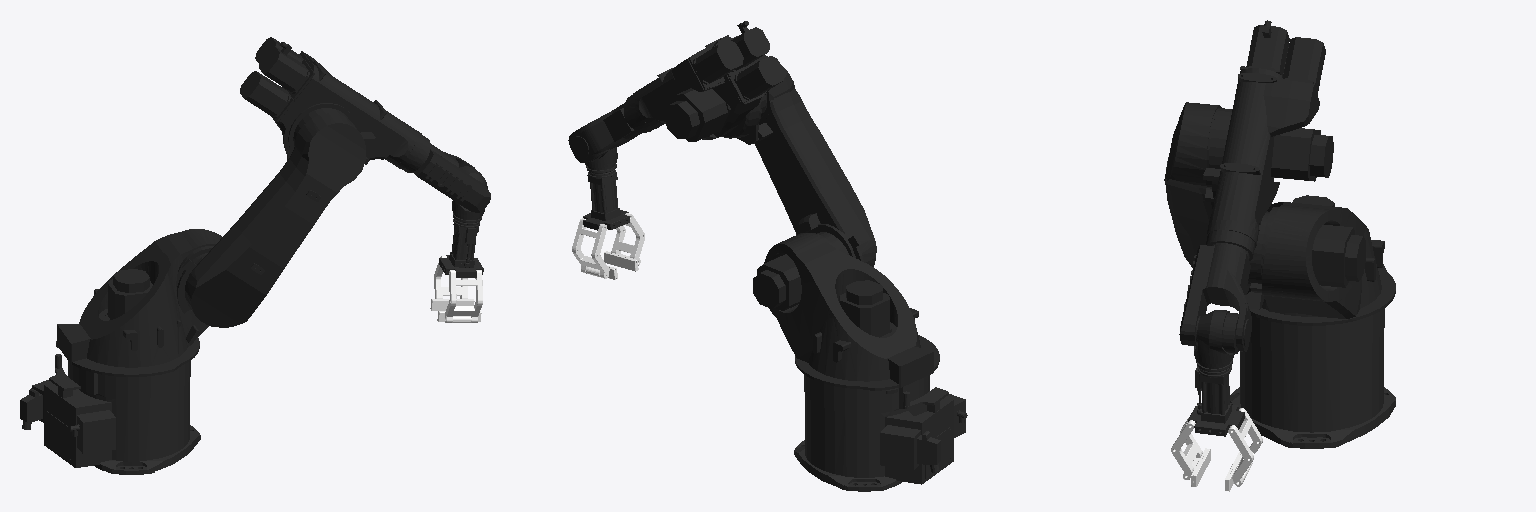
The robot description file, URDF, robot "kr60":
<?xml version="1.0" encoding="utf-8"?>
<!-- This URDF was automatically created by SolidWorks to URDF Exporter! Originally created by [author] ([email redacted]) 
     Commit Version: 1.6.0-1-g15f4949  Build Version: 1.6.7594.29634
     For more information, please see http://wiki.ros.org/sw_urdf_exporter -->
<robot
  name="kr60">
  <link
    name="base_link">
    <inertial>
      <origin
        xyz="-0.0435912921701559 0.000713255348429254 0.235869111604986"
        rpy="0 0 0" />
      <mass
        value="131.03709830541" />
      <inertia
        ixx="4.89785584702139"
        ixy="0.0374706691148856"
        ixz="-0.212225957715894"
        iyy="6.14888362749998"
        iyz="-0.000661186598210806"
        izz="6.05287659150192" />
    </inertial>
    <visual>
      <origin
        xyz="0 0 0"
        rpy="0 0 0" />
      <geometry>
        <mesh
          filename="package://kr60/meshes/base_link.STL" />
      </geometry>
      <material
        name="">
        <color
          rgba="0.223529411764706 0.223529411764706 0.223529411764706 1" />
      </material>
    </visual>
    <collision>
      <origin
        xyz="0 0 0"
        rpy="0 0 0" />
      <geometry>
        <mesh
          filename="package://kr60/meshes/base_link.STL" />
      </geometry>
    </collision>
  </link>
  <link
    name="link1">
    <inertial>
      <origin
        xyz="0.140797971765356 -0.0164096960535733 0.187359043807774"
        rpy="0 0 0" />
      <mass
        value="82.8920172367664" />
      <inertia
        ixx="2.45467046863107"
        ixy="0.256865903550409"
        ixz="-1.16906897181984"
        iyy="4.32241124955131"
        iyz="0.176354317999072"
        izz="4.14782926078883" />
    </inertial>
    <visual>
      <origin
        xyz="0 0 0"
        rpy="0 0 0" />
      <geometry>
        <mesh
          filename="package://kr60/meshes/link1.STL" />
      </geometry>
      <material
        name="">
        <color
          rgba="0.2 0.2 0.2 1" />
      </material>
    </visual>
    <collision>
      <origin
        xyz="0 0 0"
        rpy="0 0 0" />
      <geometry>
        <mesh
          filename="package://kr60/meshes/link1.STL" />
      </geometry>
    </collision>
  </link>
  <joint
    name="joint1"
    type="revolute">
    <origin
      xyz="0.00035187 -4.2629E-05 0.49797"
      rpy="0 0 0" />
    <parent
      link="base_link" />
    <child
      link="link1" />
    <axis
      xyz="0 0 -1" />
    <limit
      lower="0"
      upper="0"
      effort="0"
      velocity="0" />
  </joint>
  <link
    name="link2">
    <inertial>
      <origin
        xyz="0.251956440024243 0.31201537254992 0.101340677761361"
        rpy="0 0 0" />
      <mass
        value="54.5098631728848" />
      <inertia
        ixx="3.37106903827733"
        ixy="-2.31897616562626"
        ixz="-0.0123248243600918"
        iyy="2.37820274493385"
        iyz="-0.0168099695812892"
        izz="5.37880440302274" />
    </inertial>
    <visual>
      <origin
        xyz="0 0 0"
        rpy="0 0 0" />
      <geometry>
        <mesh
          filename="package://kr60/meshes/link2.STL" />
      </geometry>
      <material
        name="">
        <color
          rgba="0.2 0.2 0.2 1" />
      </material>
    </visual>
    <collision>
      <origin
        xyz="0 0 0"
        rpy="0 0 0" />
      <geometry>
        <mesh
          filename="package://kr60/meshes/link2.STL" />
      </geometry>
    </collision>
  </link>
  <joint
    name="joint2"
    type="revolute">
    <origin
      xyz="0.30771 -0.22264 0.31103"
      rpy="1.5708 0 -0.22752" />
    <parent
      link="link1" />
    <child
      link="link2" />
    <axis
      xyz="0 0 -1" />
    <limit
      lower="0"
      upper="0"
      effort="0"
      velocity="0" />
  </joint>
  <link
    name="link3">
    <inertial>
      <origin
        xyz="0.0264574349222555 0.0622817405350231 -0.184769381740328"
        rpy="0 0 0" />
      <mass
        value="52.8139839675299" />
      <inertia
        ixx="1.44583618573615"
        ixy="0.675569358504738"
        ixz="-0.08105662717627"
        iyy="1.74771111138366"
        iyz="0.138955152142587"
        izz="2.35512831766369" />
    </inertial>
    <visual>
      <origin
        xyz="0 0 0"
        rpy="0 0 0" />
      <geometry>
        <mesh
          filename="package://kr60/meshes/link3.STL" />
      </geometry>
      <material
        name="">
        <color
          rgba="0.2 0.2 0.2 1" />
      </material>
    </visual>
    <collision>
      <origin
        xyz="0 0 0"
        rpy="0 0 0" />
      <geometry>
        <mesh
          filename="package://kr60/meshes/link3.STL" />
      </geometry>
    </collision>
  </link>
  <joint
    name="joint3"
    type="revolute">
    <origin
      xyz="0.53484 0.66064 0.017"
      rpy="0 0 0" />
    <parent
      link="link2" />
    <child
      link="link3" />
    <axis
      xyz="0 0 -1" />
    <limit
      lower="0"
      upper="0"
      effort="0"
      velocity="0" />
  </joint>
  <link
    name="link4">
    <inertial>
      <origin
        xyz="-0.00407295592284429 0.0114233456063895 0.191771095925468"
        rpy="0 0 0" />
      <mass
        value="9.33484403440081" />
      <inertia
        ixx="0.173337740682456"
        ixy="0.00766249996810709"
        ixz="0.00211297471780549"
        iyy="0.155598279375636"
        iyz="-0.00570657719860746"
        izz="0.0550237588439791" />
    </inertial>
    <visual>
      <origin
        xyz="0 0 0"
        rpy="0 0 0" />
      <geometry>
        <mesh
          filename="package://kr60/meshes/link4.STL" />
      </geometry>
      <material
        name="">
        <color
          rgba="0.2 0.2 0.2 1" />
      </material>
    </visual>
    <collision>
      <origin
        xyz="0 0 0"
        rpy="0 0 0" />
      <geometry>
        <mesh
          filename="package://kr60/meshes/link4.STL" />
      </geometry>
    </collision>
  </link>
  <joint
    name="joint4"
    type="revolute">
    <origin
      xyz="0.40937 -0.14672 -0.16457"
      rpy="1.5708 0.35122 0.88684" />
    <parent
      link="link3" />
    <child
      link="link4" />
    <axis
      xyz="0 0 -1" />
    <limit
      lower="0"
      upper="0"
      effort="0"
      velocity="0" />
  </joint>
  <link
    name="link5">
    <inertial>
      <origin
        xyz="-0.00305829815751446 -0.0262624932024078 -0.0855135194075107"
        rpy="0 0 0" />
      <mass
        value="3.88136296388639" />
      <inertia
        ixx="0.018435030823998"
        ixy="-0.000643999611295686"
        ixz="0.000225940311804447"
        iyy="0.0129804584036509"
        iyz="0.00194018831589403"
        izz="0.0166999744136098" />
    </inertial>
    <visual>
      <origin
        xyz="0 0 0"
        rpy="0 0 0" />
      <geometry>
        <mesh
          filename="package://kr60/meshes/link5.STL" />
      </geometry>
      <material
        name="">
        <color
          rgba="0.2 0.2 0.2 1" />
      </material>
    </visual>
    <collision>
      <origin
        xyz="0 0 0"
        rpy="0 0 0" />
      <geometry>
        <mesh
          filename="package://kr60/meshes/link5.STL" />
      </geometry>
    </collision>
  </link>
  <joint
    name="joint5"
    type="revolute">
    <origin
      xyz="-0.023643 0.06437 0.41596"
      rpy="-1.5708 -0.88729 0.35371" />
    <parent
      link="link4" />
    <child
      link="link5" />
    <axis
      xyz="0 0 -1" />
    <limit
      lower="0"
      upper="0"
      effort="0"
      velocity="0" />
  </joint>
  <link
    name="link6">
    <inertial>
      <origin
        xyz="-0.000266811986394 0.0022051066231592 0.159155225523868"
        rpy="0 0 0" />
      <mass
        value="2.49283147388058" />
      <inertia
        ixx="0.0228945331943247"
        ixy="6.35070513466885E-05"
        ixz="-3.49749616928972E-05"
        iyy="0.0225138449320645"
        iyz="0.000268449006240413"
        izz="0.0064716945834193" />
    </inertial>
    <visual>
      <origin
        xyz="0 0 0"
        rpy="0 0 0" />
      <geometry>
        <mesh
          filename="package://kr60/meshes/link6.STL" />
      </geometry>
      <material
        name="">
        <color
          rgba="0.223529411764706 0.223529411764706 0.223529411764706 1" />
      </material>
    </visual>
    <collision>
      <origin
        xyz="0 0 0"
        rpy="0 0 0" />
      <geometry>
        <mesh
          filename="package://kr60/meshes/link6.STL" />
      </geometry>
    </collision>
  </link>
  <joint
    name="joint6"
    type="revolute">
    <origin
      xyz="-0.014573 -0.12469 -0.068374"
      rpy="1.5708 0.23058 -0.11592" />
    <parent
      link="link5" />
    <child
      link="link6" />
    <axis
      xyz="0 0 -1" />
    <limit
      lower="0"
      upper="0"
      effort="0"
      velocity="0" />
  </joint>
  <link
    name="finger_link1">
    <inertial>
      <origin
        xyz="-0.0749733532255245 0.130628735923085 -0.074999999999946"
        rpy="0 0 0" />
      <mass
        value="0.893519309367383" />
      <inertia
        ixx="0.0073937480635528"
        ixy="0.00124957233576088"
        ixz="3.13158244995282E-16"
        iyy="0.00326091528208565"
        iyz="-4.25684877972121E-16"
        izz="0.00565771627211372" />
    </inertial>
    <visual>
      <origin
        xyz="0 0 0"
        rpy="0 0 0" />
      <geometry>
        <mesh
          filename="package://kr60/meshes/finger_link1.STL" />
      </geometry>
      <material
        name="">
        <color
          rgba="1 1 1 1" />
      </material>
    </visual>
    <collision>
      <origin
        xyz="0 0 0"
        rpy="0 0 0" />
      <geometry>
        <mesh
          filename="package://kr60/meshes/finger_link1.STL" />
      </geometry>
    </collision>
  </link>
  <joint
    name="finger_joint1"
    type="revolute">
    <origin
      xyz="-0.093833 0.056587 0.2565"
      rpy="1.5708 0.39611 -1.2963" />
    <parent
      link="link6" />
    <child
      link="finger_link1" />
    <axis
      xyz="0 0 -1" />
    <limit
      lower="0"
      upper="0"
      effort="0"
      velocity="0" />
  </joint>
  <link
    name="finger_link2">
    <inertial>
      <origin
        xyz="-0.0434409829659067 0.144196411218408 -0.0750000000000308"
        rpy="0 0 0" />
      <mass
        value="0.893519309367395" />
      <inertia
        ixx="0.00645658292905761"
        ixy="0.00213264017844388"
        ixz="-9.93129189996722E-17"
        iyy="0.00419586853440302"
        iyz="5.19170210294684E-16"
        izz="0.00565550438993584" />
    </inertial>
    <visual>
      <origin
        xyz="0 0 0"
        rpy="0 0 0" />
      <geometry>
        <mesh
          filename="package://kr60/meshes/finger_link2.STL" />
      </geometry>
      <material
        name="">
        <color
          rgba="1 1 1 1" />
      </material>
    </visual>
    <collision>
      <origin
        xyz="0 0 0"
        rpy="0 0 0" />
      <geometry>
        <mesh
          filename="package://kr60/meshes/finger_link2.STL" />
      </geometry>
    </collision>
  </link>
  <joint
    name="finger_joint2"
    type="revolute">
    <origin
      xyz="-0.050462 -0.097423 0.2565"
      rpy="1.5708 0.39611 -1.2963" />
    <parent
      link="link6" />
    <child
      link="finger_link2" />
    <axis
      xyz="0 0 1" />
    <limit
      lower="0"
      upper="0"
      effort="0"
      velocity="0" />
  </joint>
</robot>

--- Render facts (derived) ---
Views: 3 orthographic renders of the robot side by side, from view 1: azimuth 30°, elevation 25°; view 2: azimuth 150°, elevation 25°; view 3: azimuth 270°, elevation 25°.
Model kr60 with 9 links and 8 joints (8 revolute), rooted at base_link, posed every joint at zero.
Links seen in each view (by area): view 1: link2, base_link, link1, link3, link4, link6, finger_link1, finger_link2, link5; view 2: link1, base_link, link3, link2, link4, link6, finger_link2, finger_link1; view 3: base_link, link3, link1, link4, link2, link6, link5, finger_link2, finger_link1.
Boxes of the visible links, box(x1,y1,x2,y2) form: link2: box(177, 113, 365, 327); base_link: box(20, 354, 200, 474); link1: box(56, 229, 221, 376); link3: box(240, 37, 416, 164); link4: box(393, 130, 490, 212); link6: box(439, 213, 483, 277); finger_link1: box(437, 270, 482, 322); finger_link2: box(430, 256, 474, 310); link5: box(452, 166, 487, 219); link1: box(753, 232, 939, 393); base_link: box(794, 375, 967, 491); link3: box(635, 21, 784, 144); link2: box(752, 55, 876, 266); link4: box(568, 89, 659, 163); link6: box(583, 164, 629, 230); finger_link2: box(572, 218, 617, 279); finger_link1: box(604, 213, 644, 271); base_link: box(1230, 308, 1395, 448); link3: box(1203, 20, 1333, 234); link1: box(1245, 195, 1395, 325); link4: box(1179, 220, 1257, 351); link2: box(1164, 102, 1249, 294); link6: box(1188, 360, 1244, 436); link5: box(1194, 310, 1238, 368); finger_link2: box(1225, 408, 1262, 491); finger_link1: box(1171, 405, 1210, 486).
Bounding box of the posed robot: 2.15 × 0.8588 × 1.93 m (x, y, z).
9 mesh visuals loaded from 9 distinct referenced files (9 binary STL).